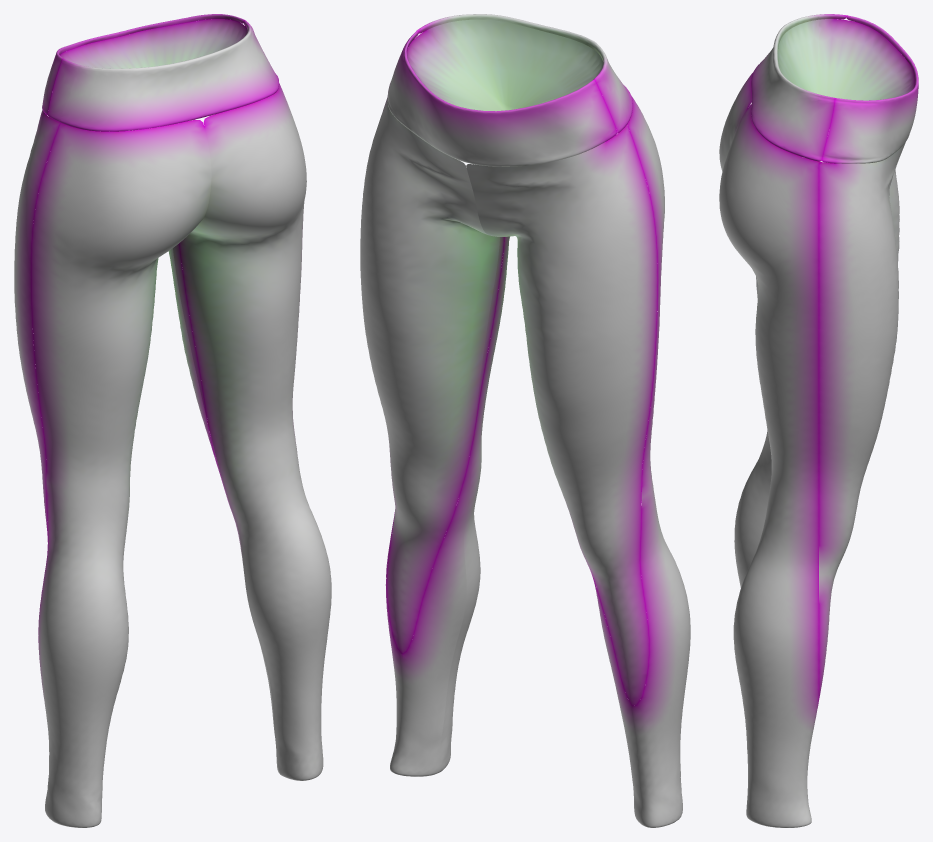
File: leggings.glb
The picture shows the model from 3 angles, left to right: view 1: azimuth 30°, elevation 25°; view 2: azimuth 150°, elevation 25°; view 3: azimuth 270°, elevation 25°; orthographic projection. The views are drawn at different scales.
Visible parts, largest first — view 1: front, waistband, back; view 2: back, front, waistband; view 3: front, back, waistband.
Boxes of the visible parts, x1,y1,x2,y2 form: front: (31,83,331,827); waistband: (47,19,279,131); back: (14,14,244,546); back: (360,30,657,705); front: (385,96,690,827); waistband: (407,14,632,133); front: (719,72,818,827); back: (819,15,918,699); waistband: (751,14,914,161).
Size of the model in its own units: 0.385 by 0.98 by 0.2468.
